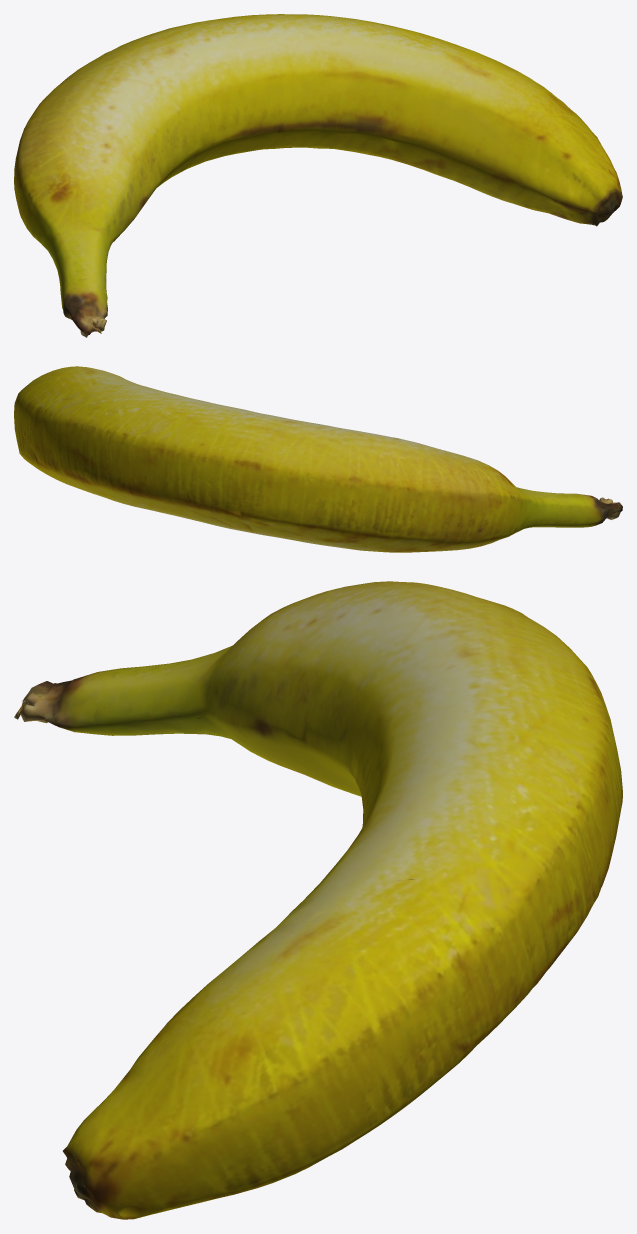
Rendered from banana_cda9d898_visual.obj.
3 renders of one model, top to bottom at view 1: azimuth 30°, elevation 25°; view 2: azimuth 150°, elevation 25°; view 3: azimuth 270°, elevation 25°, orthographic. The views are drawn at different scales.
Bounding box in the file's own units: 0.1029 × 0.03 × 0.0562.
Materials: 1 (1 with a texture image).
